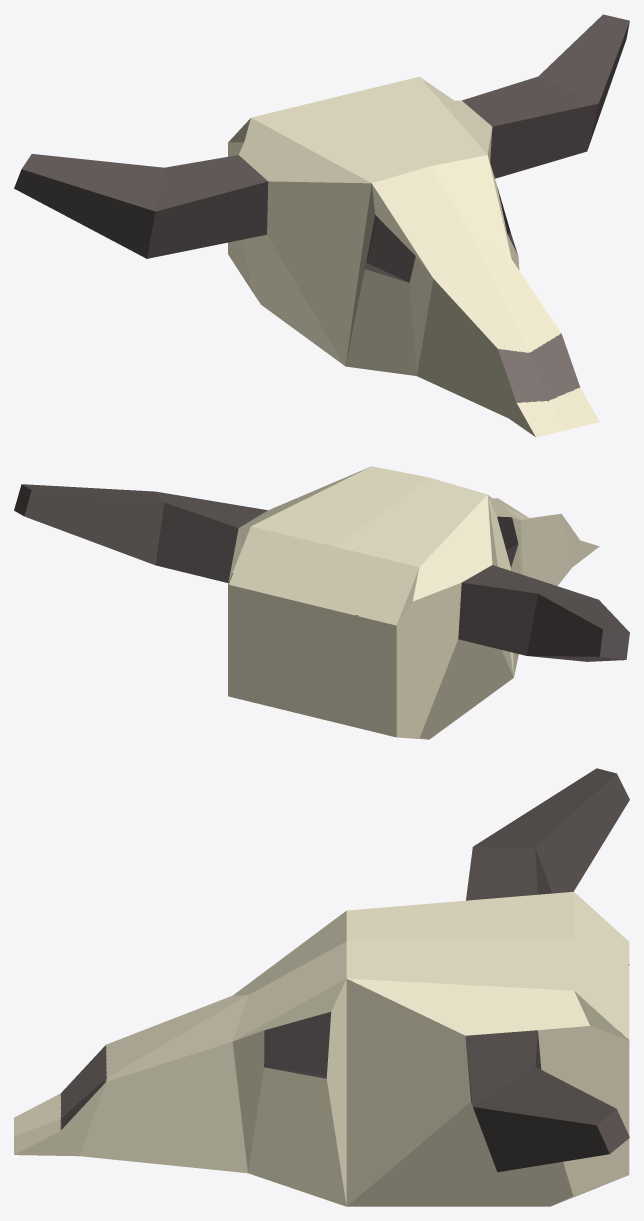
Rendered from Skull.fbx.
The picture shows the model from 3 angles, top to bottom: view 1: azimuth 30°, elevation 25°; view 2: azimuth 150°, elevation 25°; view 3: azimuth 270°, elevation 25°; orthographic projection. The views are drawn at different scales.
Parts seen in each view (by area): view 1: Skull; view 2: Skull; view 3: Skull.
Part boxes in pixels (x1,y1,x2,y2): Skull: [14, 14, 629, 437]; Skull: [14, 466, 629, 739]; Skull: [14, 768, 629, 1206].
Size of the model in its own units: 209 by 58.54 by 151.
1 material, 1 textured.
